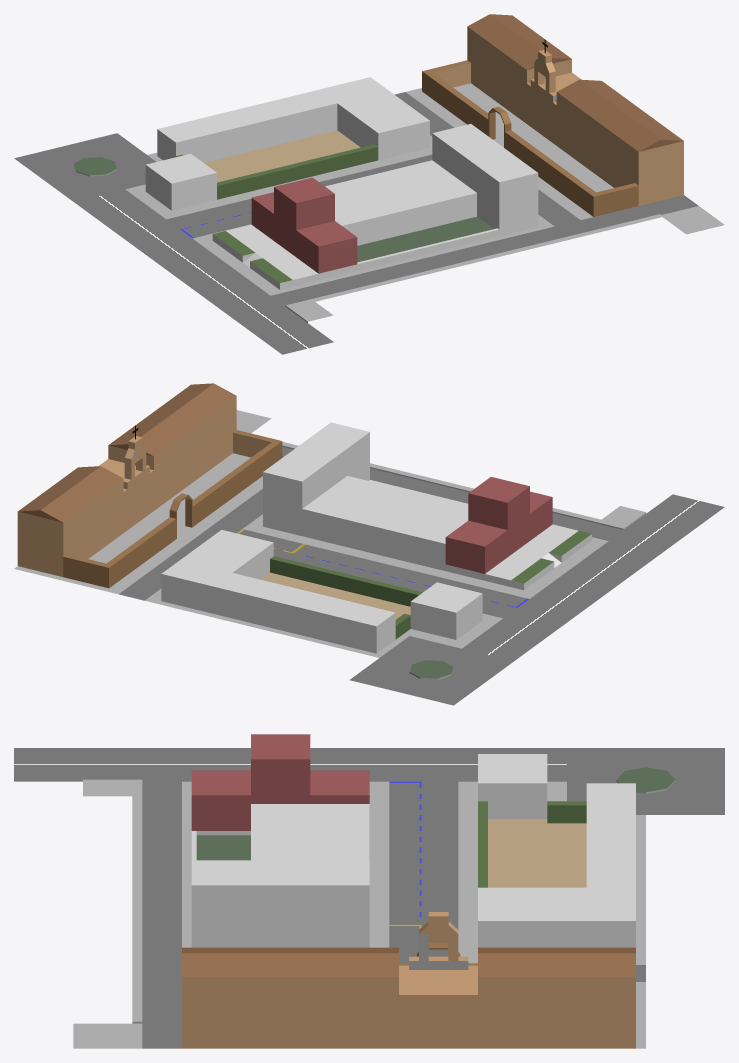
The model's file is inmaculada.glb.
3 views of the same model, one above another, from view 1: azimuth 30°, elevation 25°; view 2: azimuth 150°, elevation 25°; view 3: azimuth 270°, elevation 25° (orthographic). The views are drawn at different scales.
Parts seen in each view (by area): view 1: Institute, Hospital, Buildings, Sidewalk, Avenue, Juventud, Roads, Roundabout, Playground, Bush, Island; view 2: Institute, Hospital, Buildings, Sidewalk, Avenue, Juventud, Roads, Roundabout, Bush, Playground, Island; view 3: Institute, Hospital, Roads, Buildings, Sidewalk, Avenue, Juventud, Roundabout, Playground, Bush, Island.
Boxes of the visible parts, box(x1,y1,x2,y2) form: Institute: box(422, 14, 683, 216); Hospital: box(325, 124, 538, 270); Buildings: box(145, 77, 429, 210); Sidewalk: box(125, 83, 724, 322); Avenue: box(74, 189, 333, 354); Juventud: box(212, 177, 357, 289); Roads: box(166, 92, 698, 306); Roundabout: box(14, 133, 156, 201); Playground: box(204, 130, 360, 182); Bush: box(176, 144, 378, 199); Island: box(74, 157, 116, 176); Institute: box(17, 383, 282, 588); Hospital: box(263, 422, 468, 570); Buildings: box(161, 529, 482, 653); Sidewalk: box(14, 410, 646, 657); Avenue: box(462, 494, 724, 661); Juventud: box(445, 477, 591, 590); Roads: box(119, 447, 623, 618); Roundabout: box(349, 636, 513, 705); Bush: box(270, 556, 422, 639); Playground: box(261, 572, 410, 619); Island: box(409, 660, 453, 679); Institute: box(182, 912, 635, 1048); Hospital: box(191, 804, 369, 947); Roads: box(142, 781, 645, 1048); Buildings: box(478, 754, 635, 947); Sidewalk: box(73, 779, 645, 1048); Avenue: box(14, 748, 566, 781); Juventud: box(191, 734, 369, 830); Roundabout: box(567, 748, 724, 814); Playground: box(488, 819, 586, 887); Bush: box(478, 801, 586, 887); Island: box(616, 767, 675, 793).
Size of what is drawn, in the model's own units: 72 by 14.01 by 72.
Materials: 20 (2 with a texture image).
